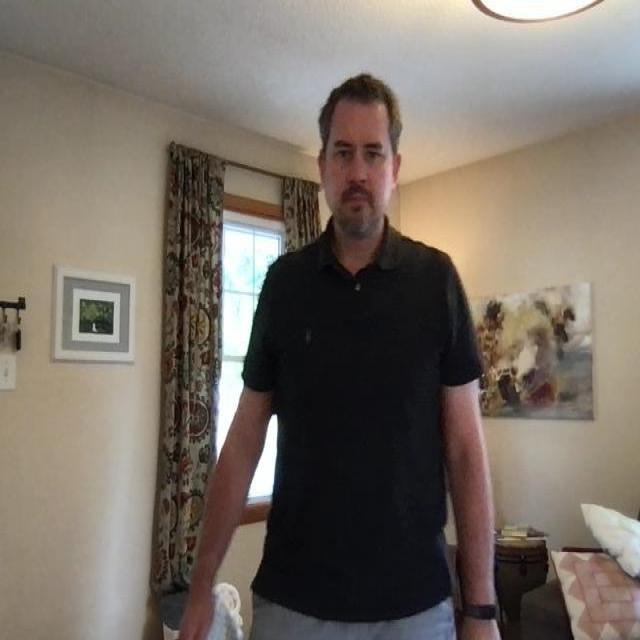face: (317, 72, 403, 237)
